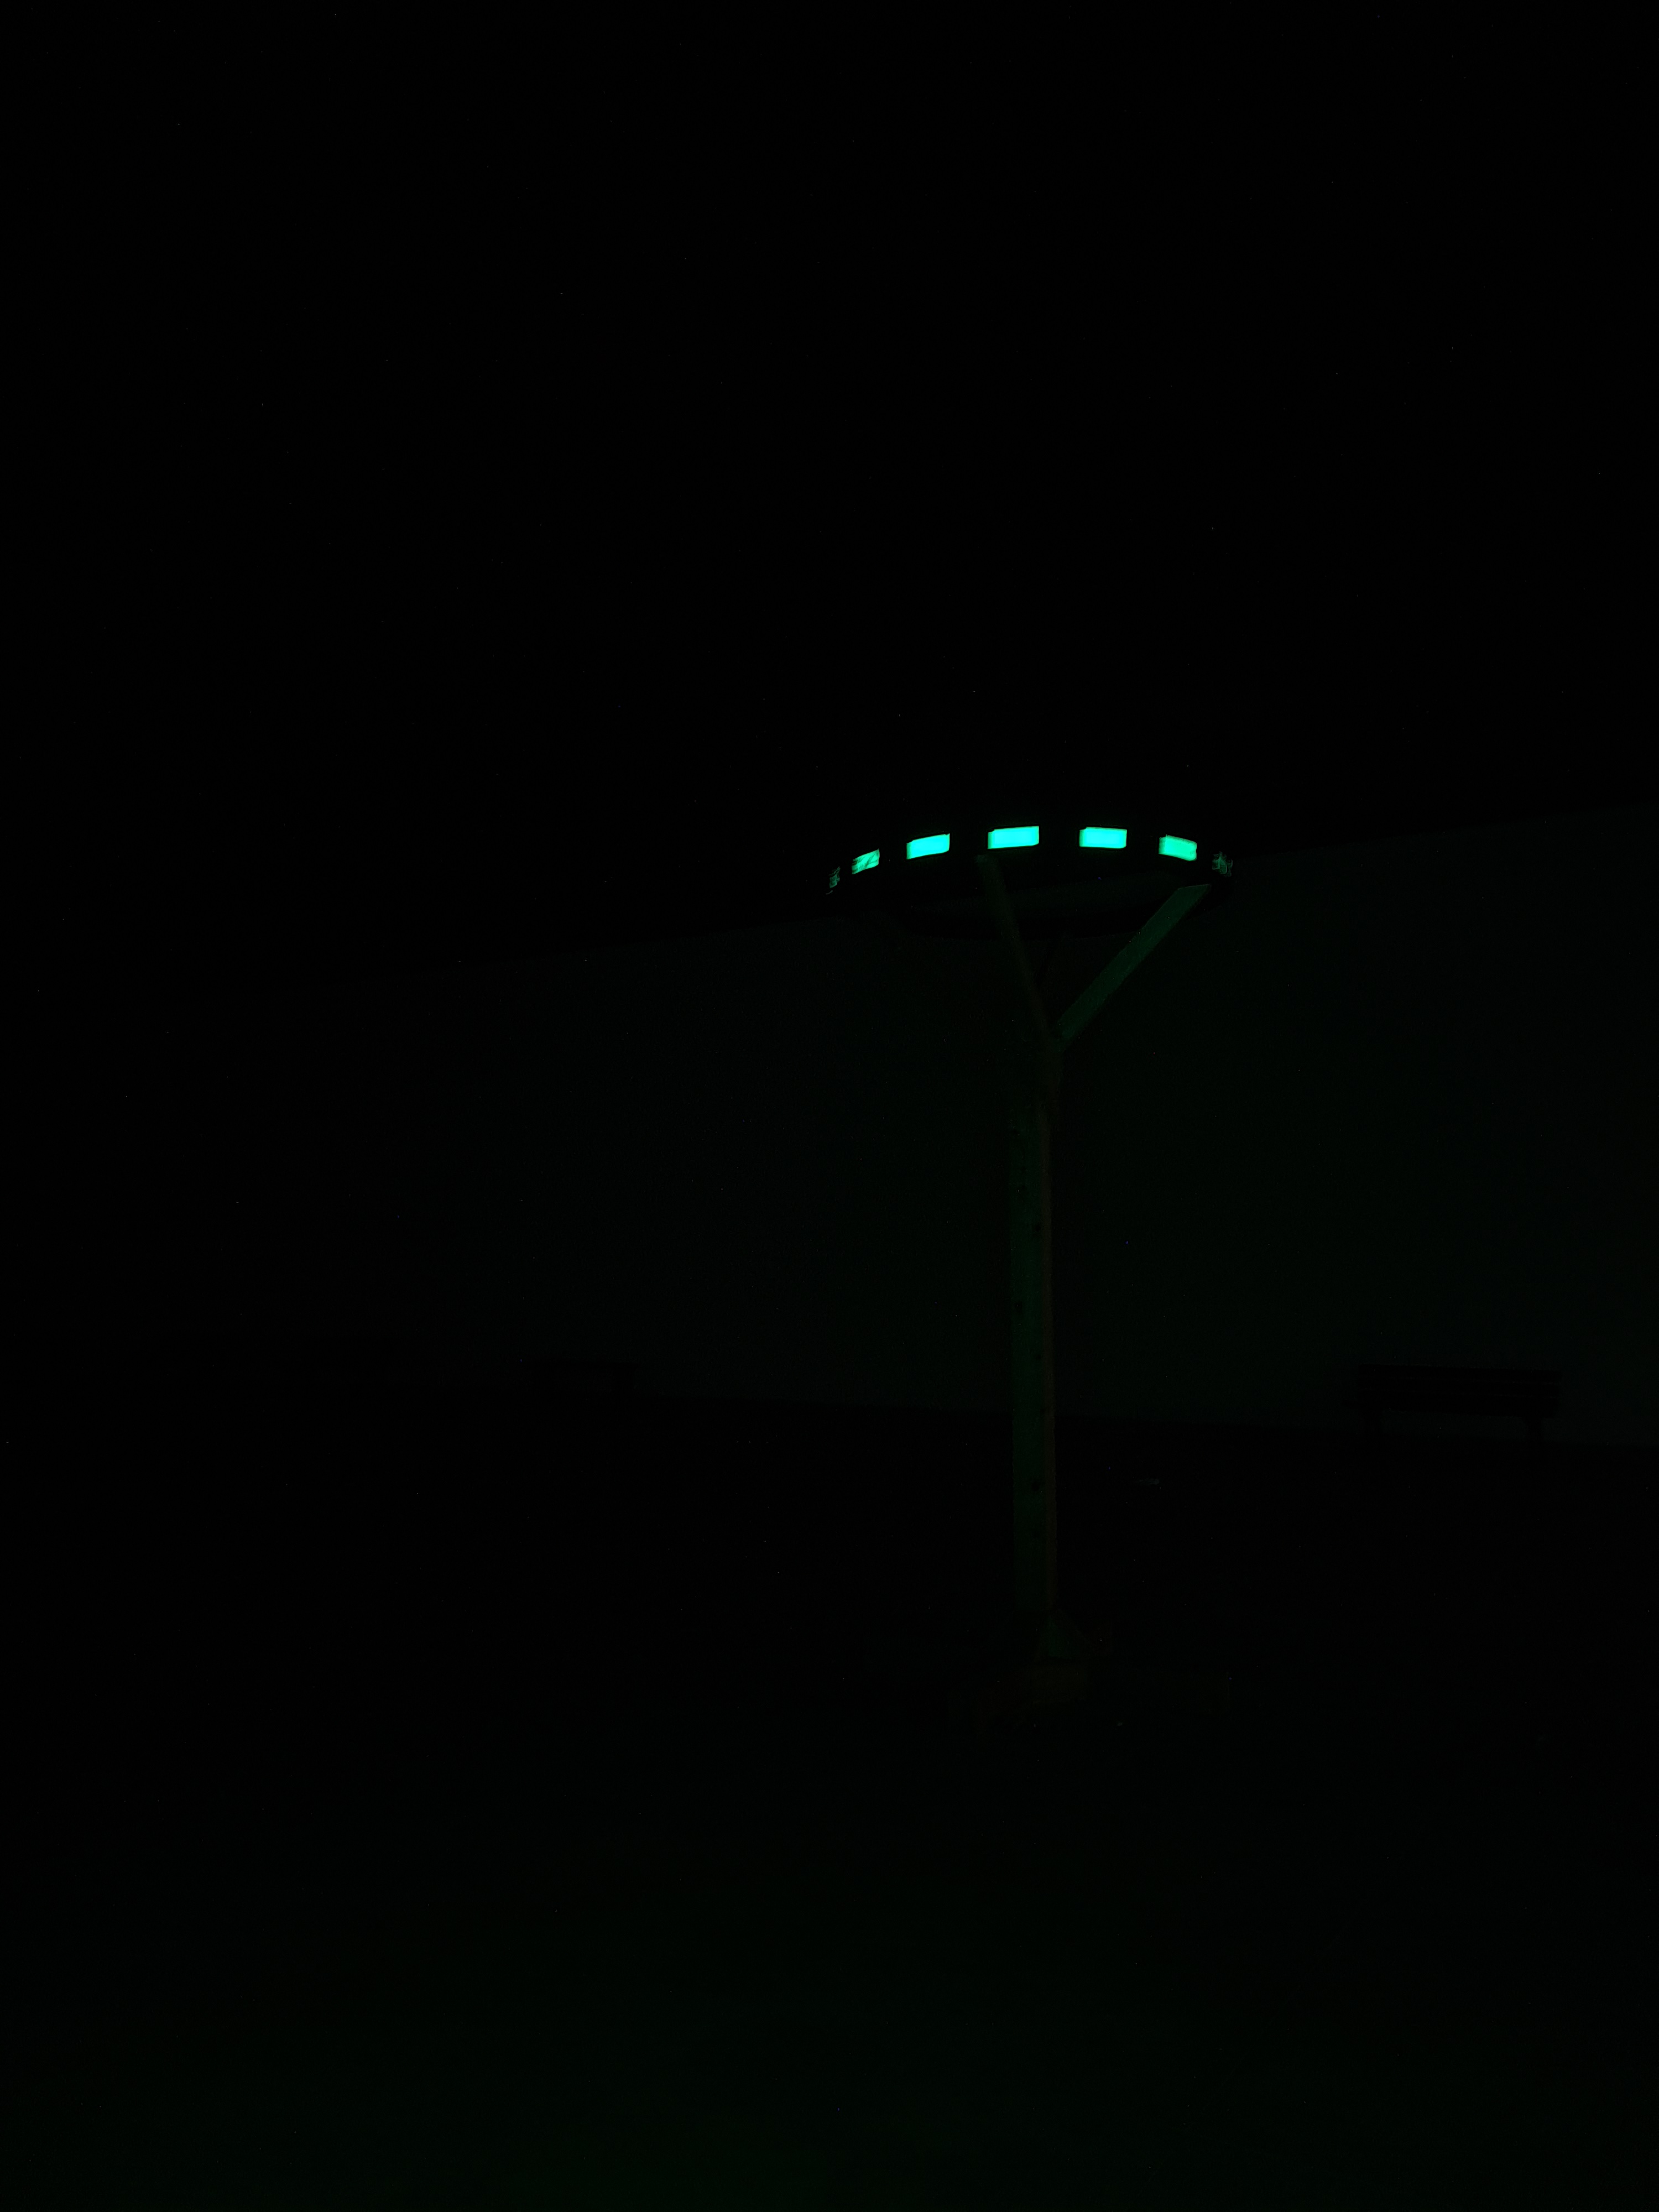hoop: (828, 824, 1237, 897)
